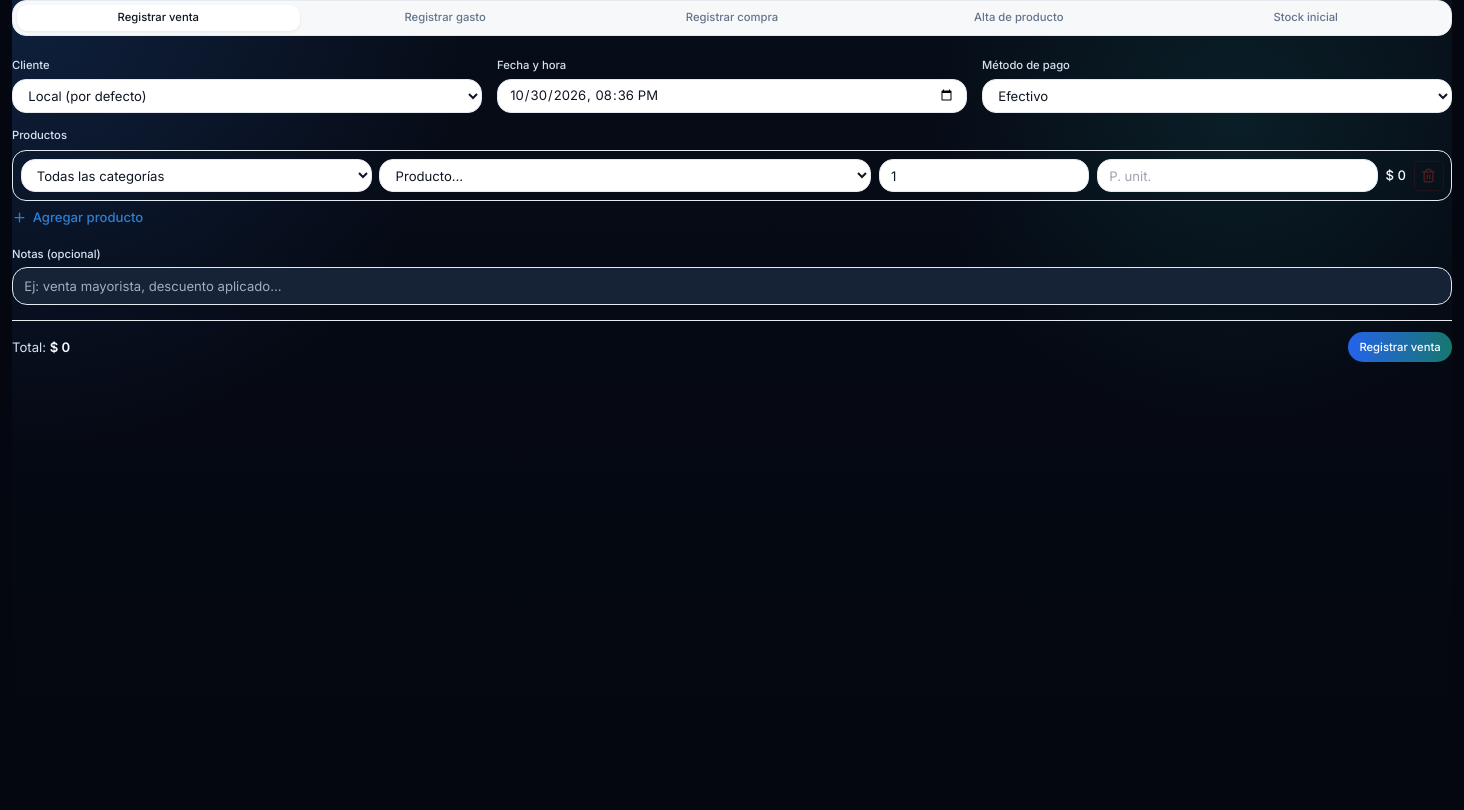
Test: M·2d: con stock y sin la fecha del stock inicial no se envía
The width and height of the screenshot is (1464, 810).
Click the button "Alta de producto" at point(1019, 18), box top-left (877, 5), bottom-right (1160, 31)
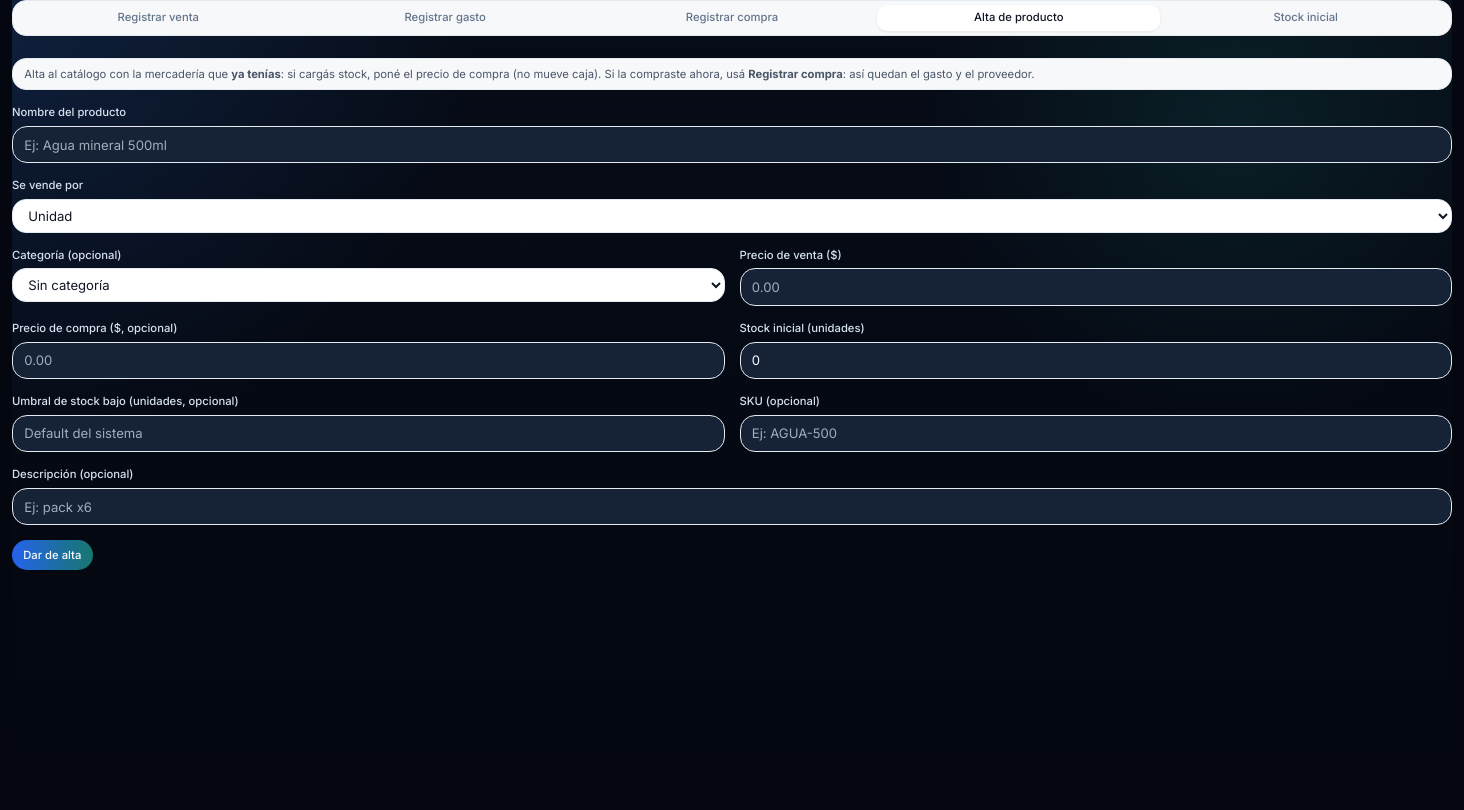
Type "Vela" into the field labelled "Nombre del producto" at point(732, 145), box top-left (12, 126), bottom-right (1452, 163)
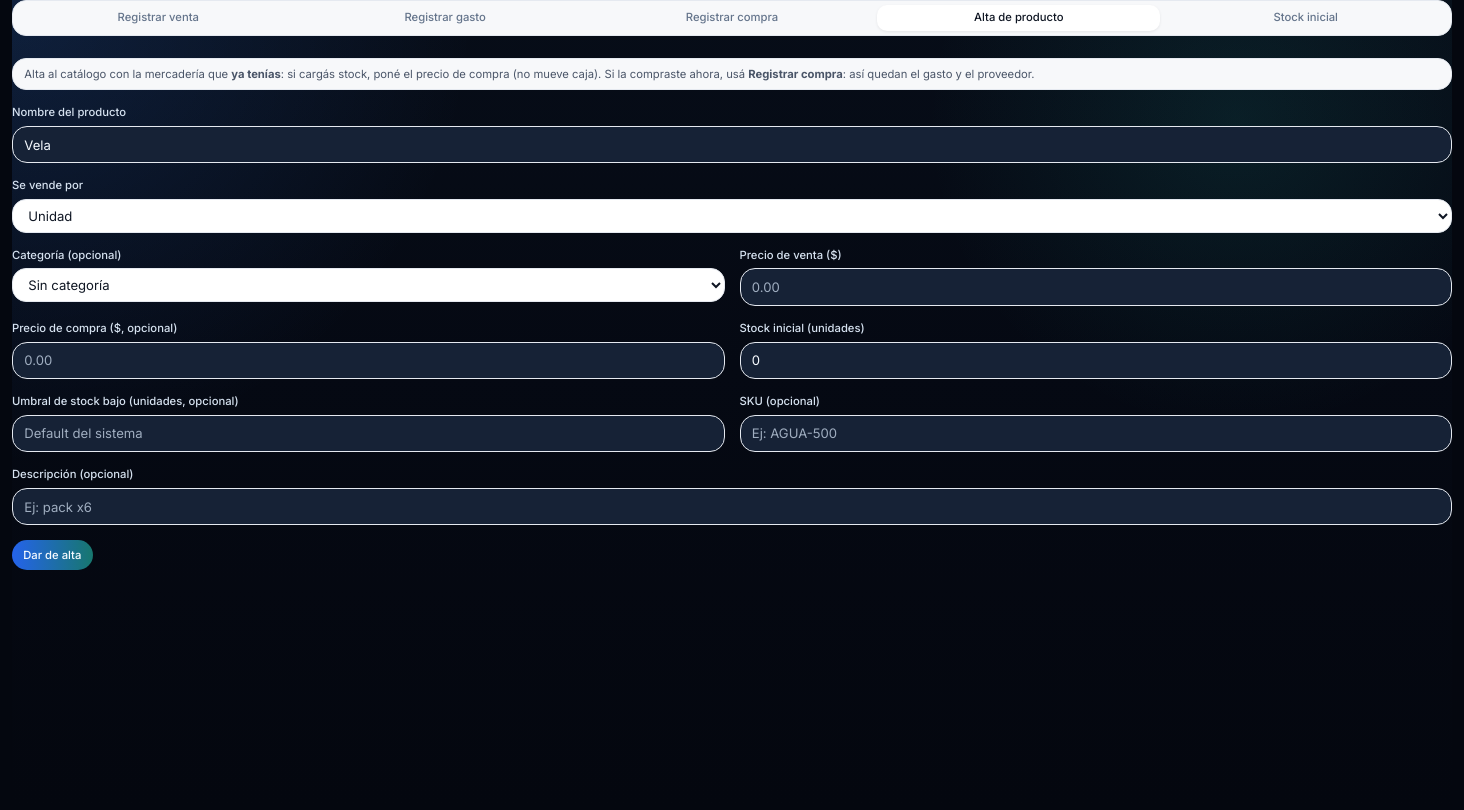
Type "300" into the number field labelled "Precio de venta ($)" at point(1096, 287), box top-left (740, 268), bottom-right (1452, 306)
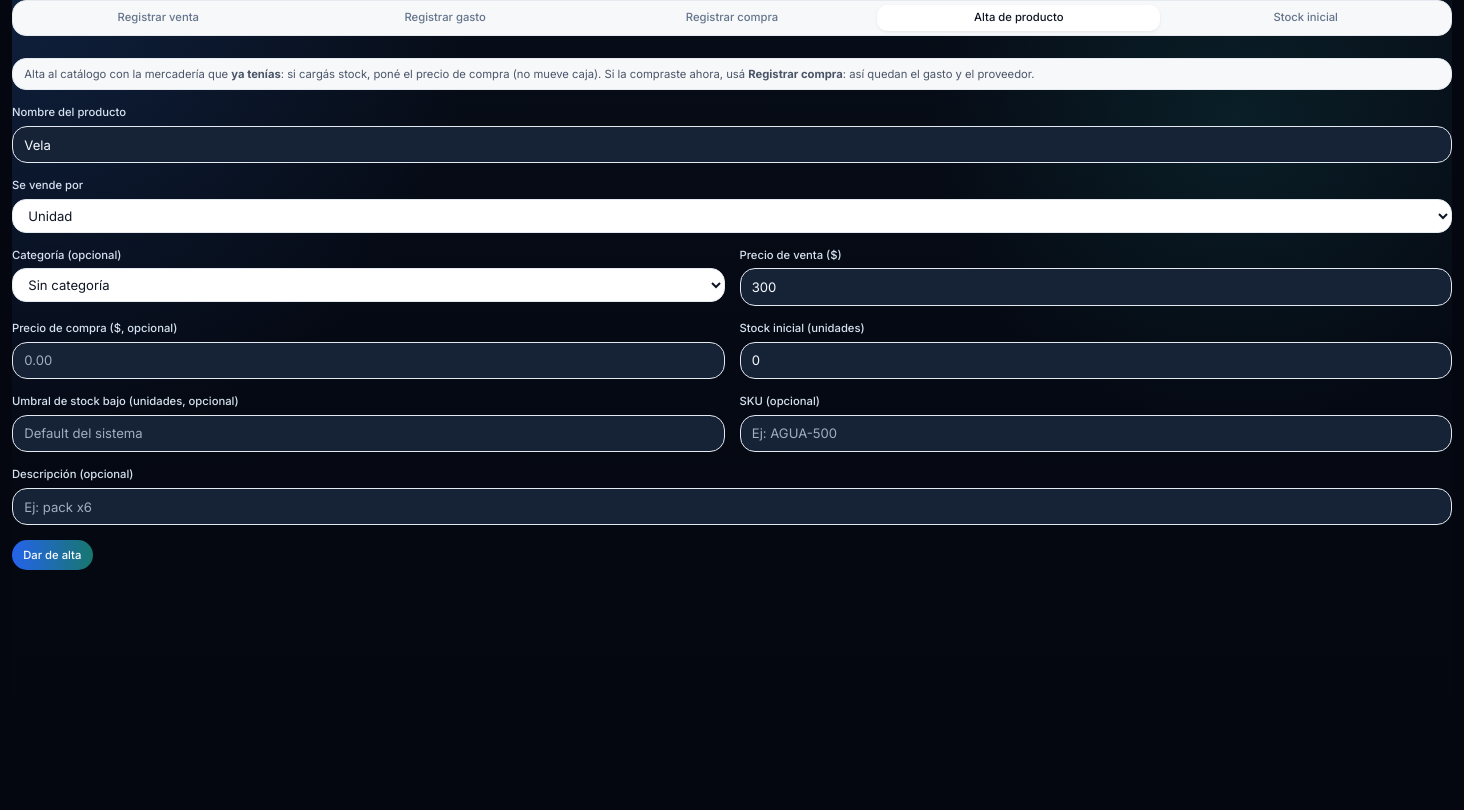
Type "10" into the field labelled "Stock inicial (unidades)" at point(1096, 360), box top-left (740, 342), bottom-right (1452, 379)
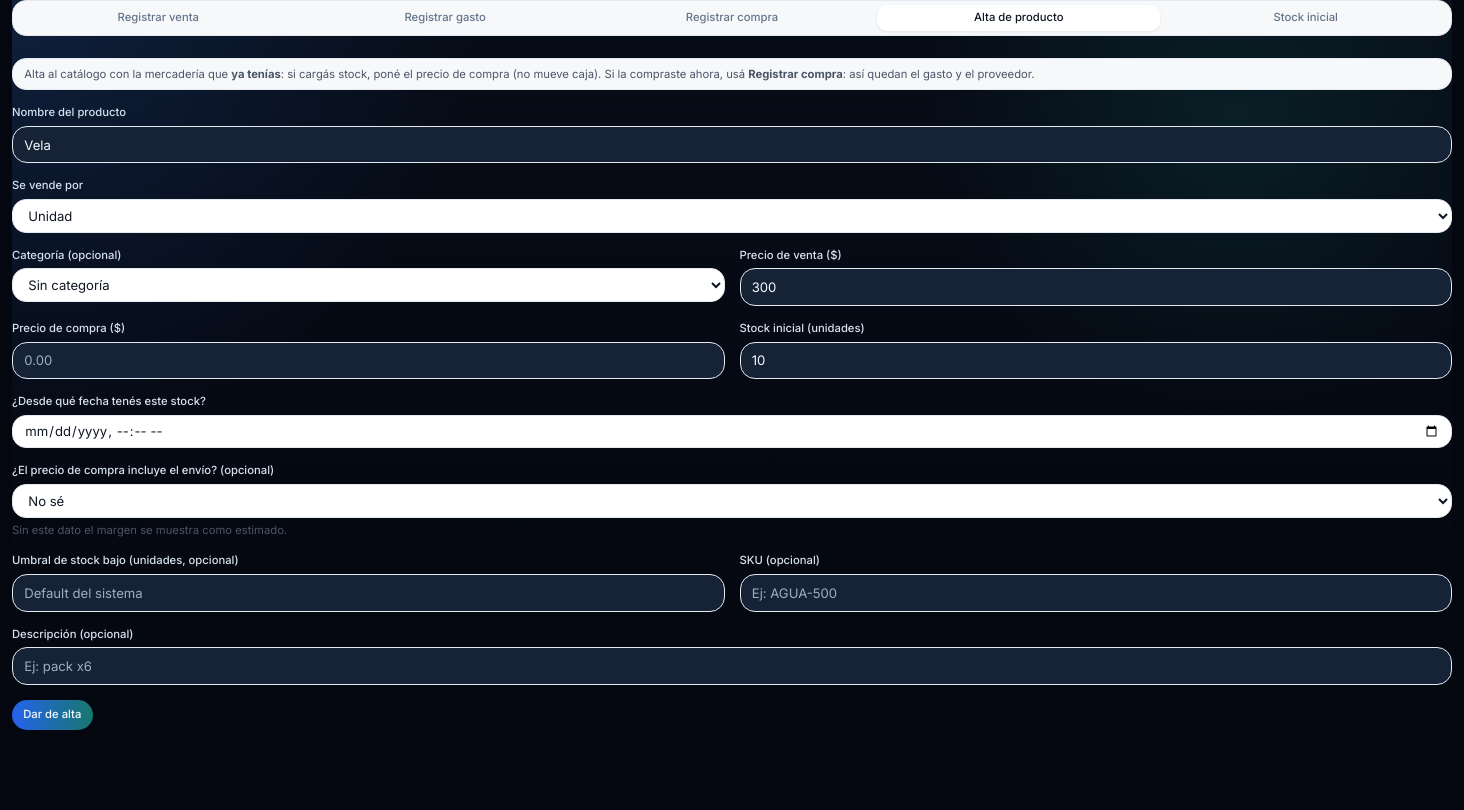
Type "80" into the number field labelled "Precio de compra ($)" at point(368, 360), box top-left (12, 342), bottom-right (724, 379)
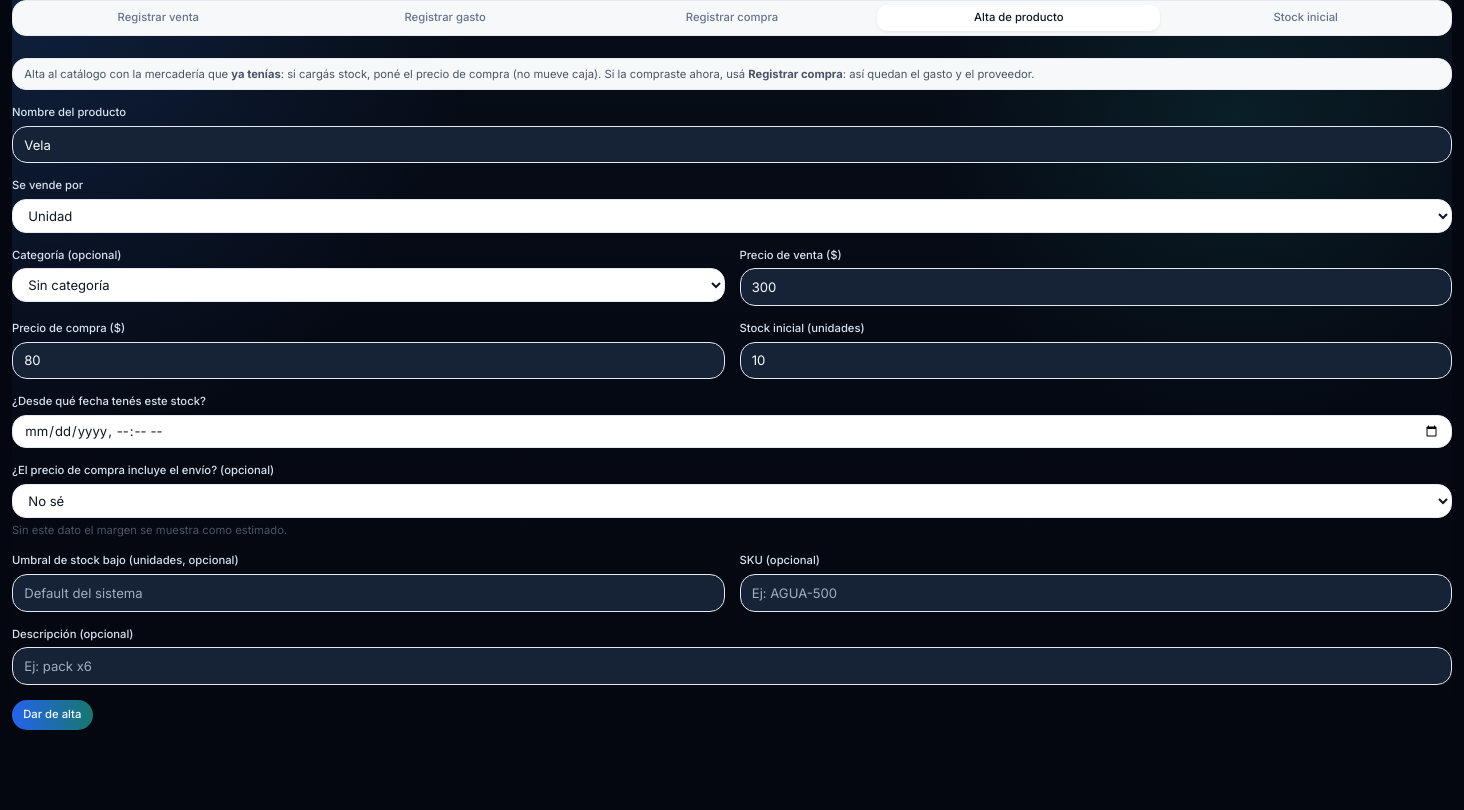
Expected: the field named "Fecha del stock inicial" is empty, top-left (12, 415), bottom-right (1452, 448)
Click the button "Dar de alta" at point(52, 715), box top-left (12, 700), bottom-right (93, 730)
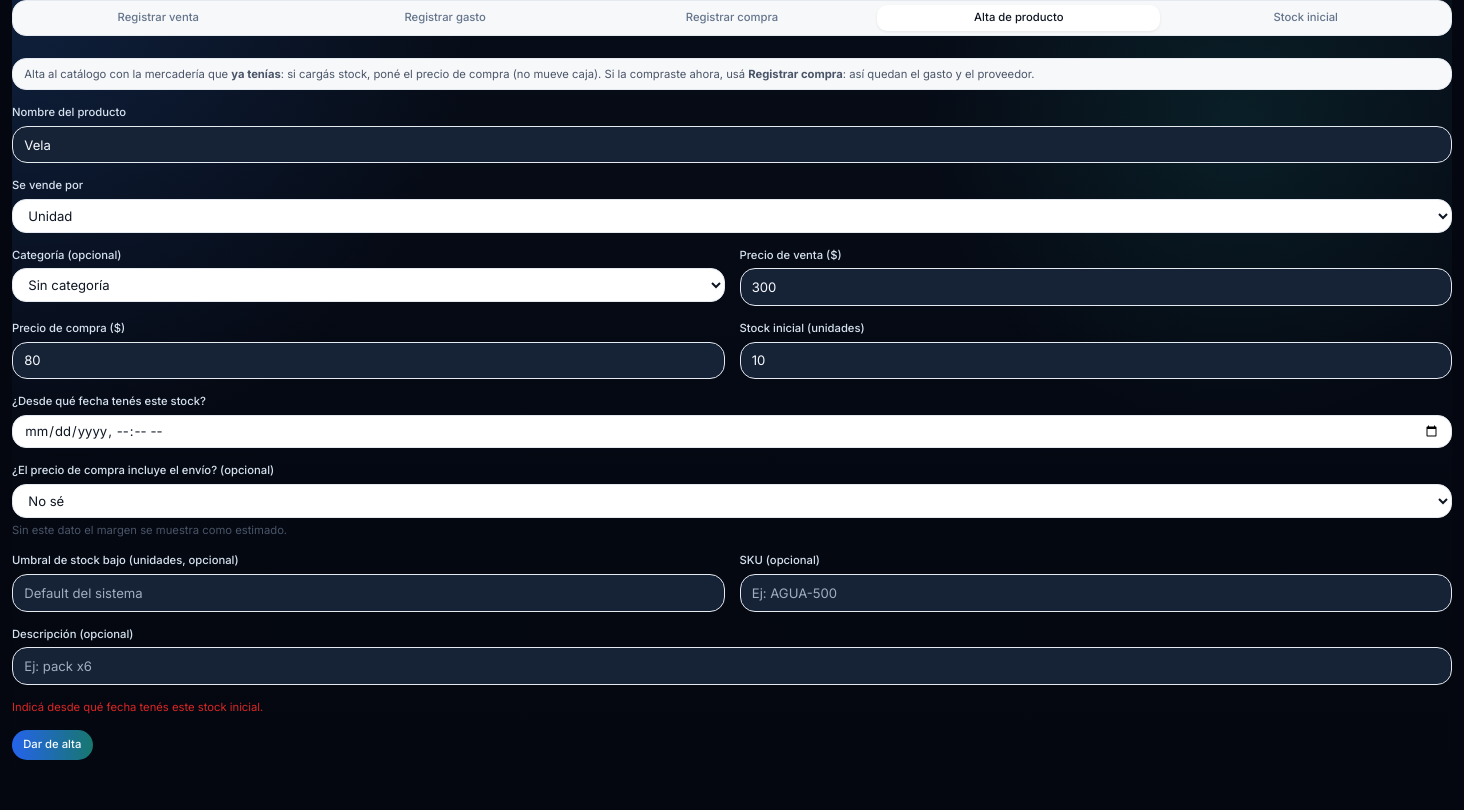
Expected: the text "Indicá desde qué fecha tenés este stock inicial." is shown, top-left (12, 700), bottom-right (263, 714)
